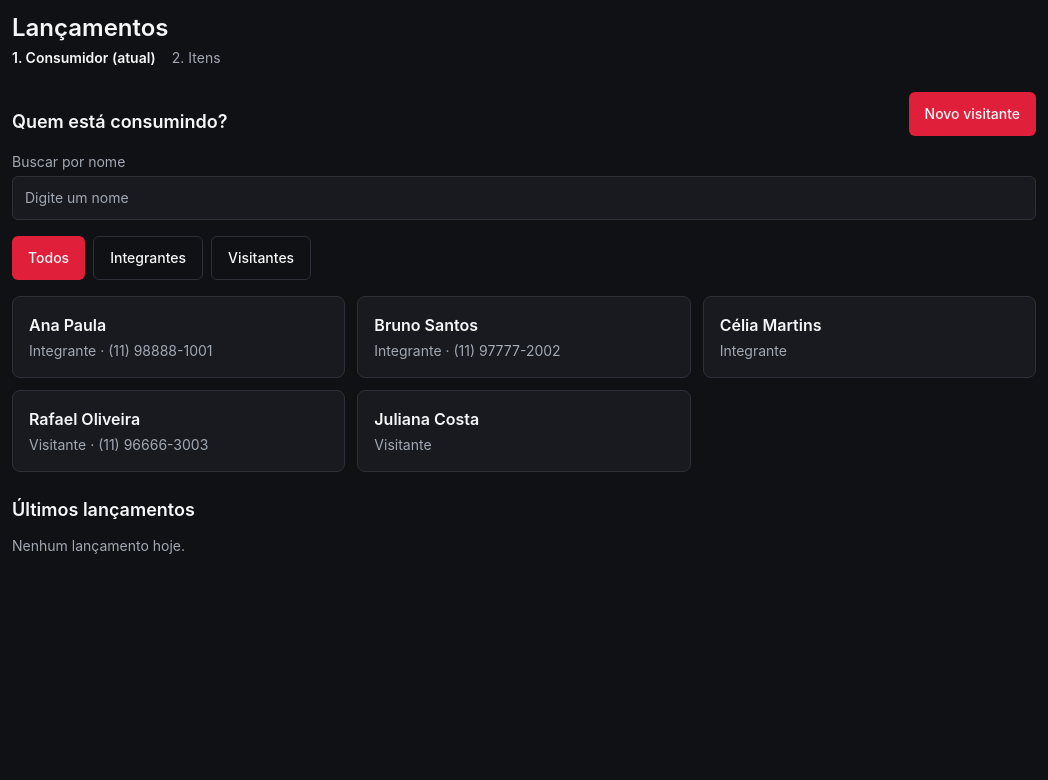
LaunchScreen quantity and courtesy › groups repeated launches of one item into a single tab line
The image size is (1048, 780).
Step 1. Click the button "Ana Paula Integrante · (11) 98888-1001" → (68, 325), box [12,296,345,378]
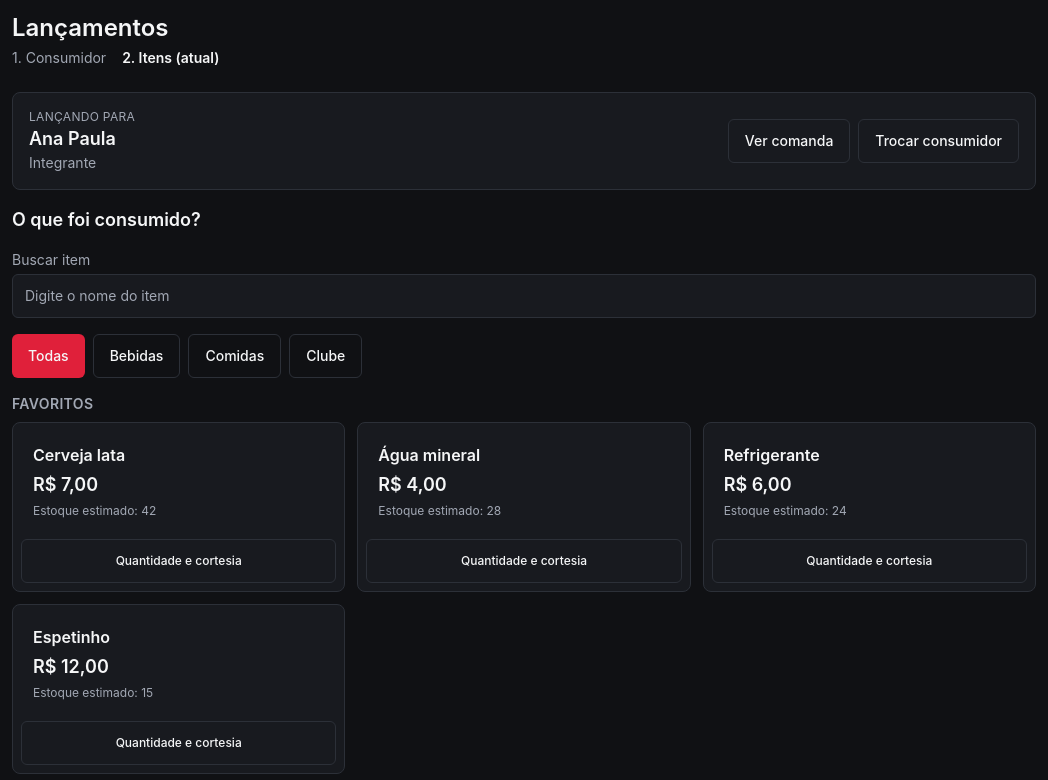
Step 2. Click the button named "Lançar Cerveja lata" → (79, 455), box [21,431,336,531]
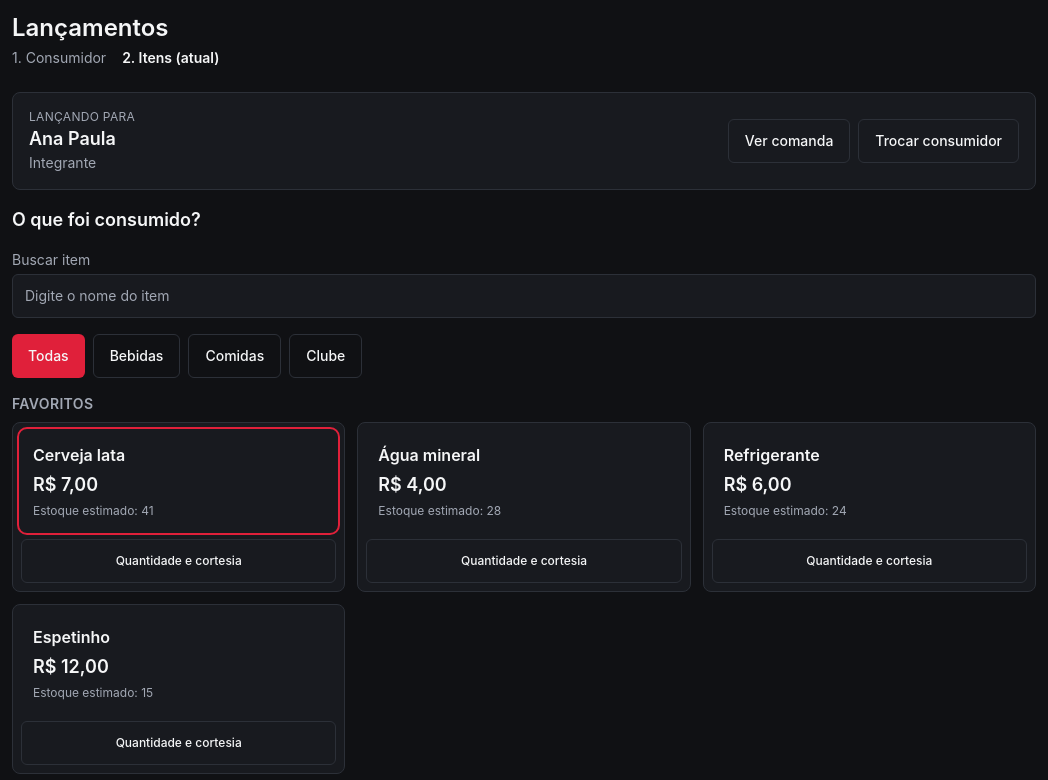
Step 3. Click the button named "Lançar Cerveja lata" → (79, 455), box [21,431,336,531]
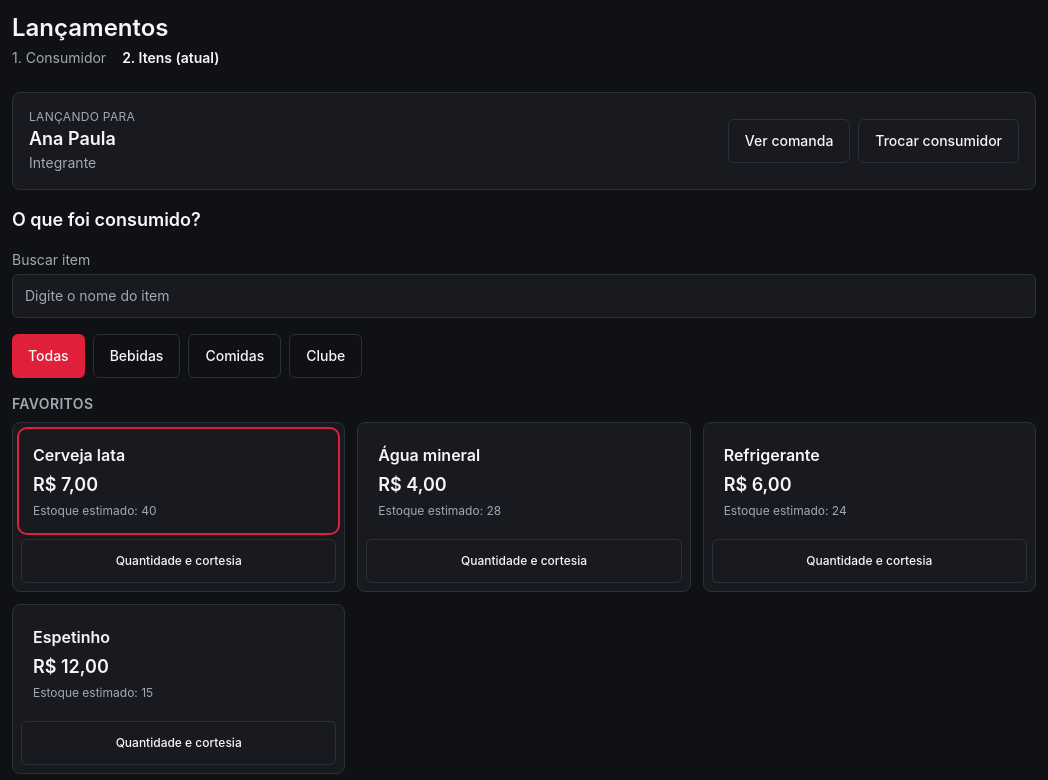
Step 4. Click the button "Ver comanda" → (789, 141), box [728,119,850,163]
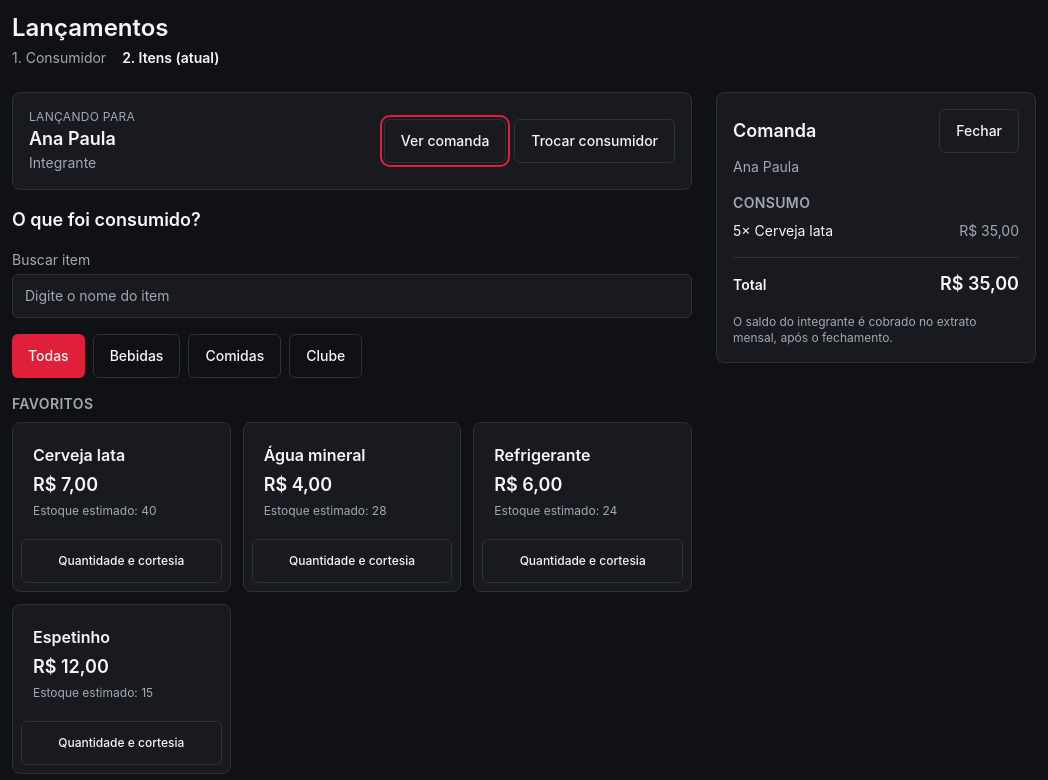
Check: the list item "5× Cerveja lata R$ 35,00" is shown, box [733,221,1019,241]
Check: the element named "Comanda de Ana Paula" shows "O saldo do integrante é cobrado no extrato mensal, após o fechamento.", box [733,314,976,345]
